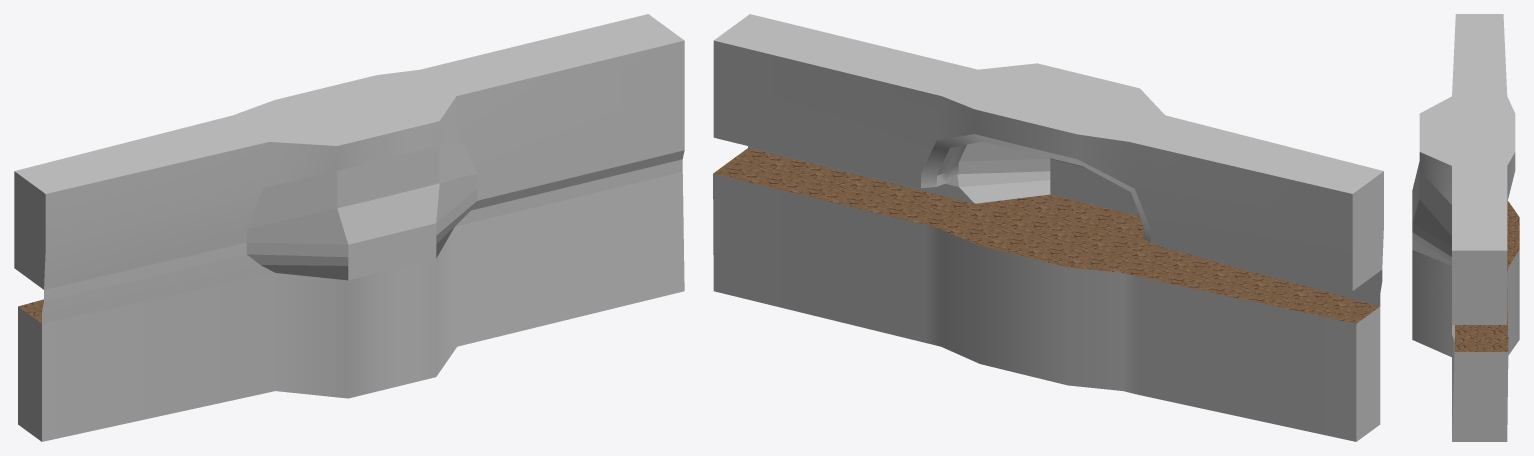
Rendered from Room10.1.fbx.
3 renders of one model, left to right at view 1: azimuth 30°, elevation 25°; view 2: azimuth 150°, elevation 25°; view 3: azimuth 270°, elevation 25°, orthographic. The views are drawn at different scales.
Visible parts, largest first — view 1: polySurface337; view 2: polySurface337; view 3: polySurface337.
Boxes of the visible parts, x1,y1,x2,y2 form: polySurface337: [14, 14, 684, 441]; polySurface337: [713, 14, 1383, 441]; polySurface337: [1412, 14, 1519, 441].
Size of the model in its own units: 22.55 by 8.49 by 4.31.
